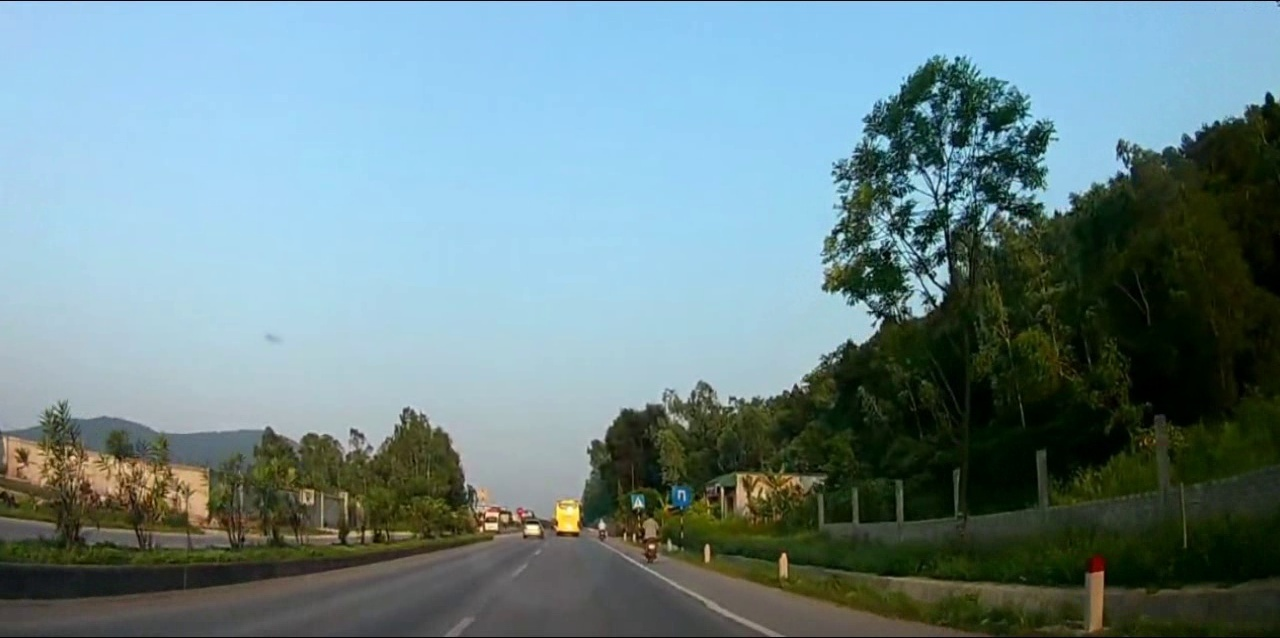Bien khac: (670, 486, 690, 506)
Nguoi di bo: (630, 492, 645, 509)
